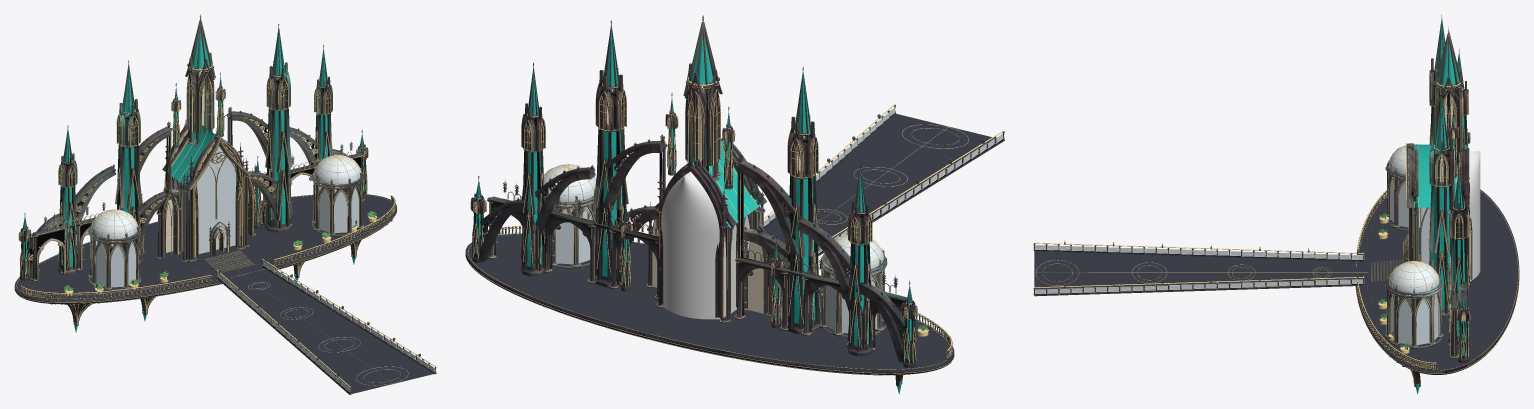
The model's file is castle-baked-draco.glb.
3 renders of one model, left to right at view 1: azimuth 30°, elevation 25°; view 2: azimuth 150°, elevation 25°; view 3: azimuth 270°, elevation 25°, orthographic. The views are drawn at different scales.
Parts seen in each view (by area): view 1: Control stone, Reflective platform and bridge, Control gold, Control glass, Control crystal, Control window; view 2: Control stone, Reflective platform and bridge, Control gold, Control vault, Control crystal, Control glass, Control window; view 3: Reflective platform and bridge, Control stone, Control gold, Control glass, Control crystal, Control vault.
Part boxes in pixels (x1,y1,x2,y2): Control stone: (15,15,436,394); Reflective platform and bridge: (14,194,433,393); Control gold: (14,14,436,393); Control glass: (91,146,434,392); Control crystal: (21,27,364,332); Control window: (27,72,364,252); Control stone: (465,15,1004,386); Reflective platform and bridge: (465,114,996,370); Control gold: (465,66,1004,375); Control vault: (661,171,719,319); Control crystal: (475,26,914,394); Control glass: (543,107,1002,333); Control window: (475,87,906,317); Reflective platform and bridge: (1034,182,1519,371); Control stone: (1033,15,1518,386); Control gold: (1033,14,1519,386); Control glass: (1035,144,1439,344); Control crystal: (1414,18,1466,394); Control vault: (1470,151,1480,281).
Size of the model in its own units: 40.51 by 28.34 by 42.26.
